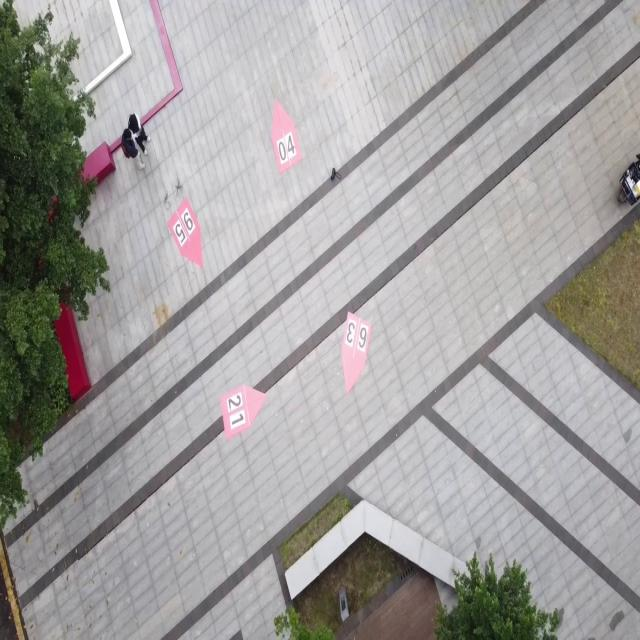-sign-: (167, 196, 203, 270), (220, 383, 266, 440), (342, 311, 372, 395), (271, 98, 302, 174)
